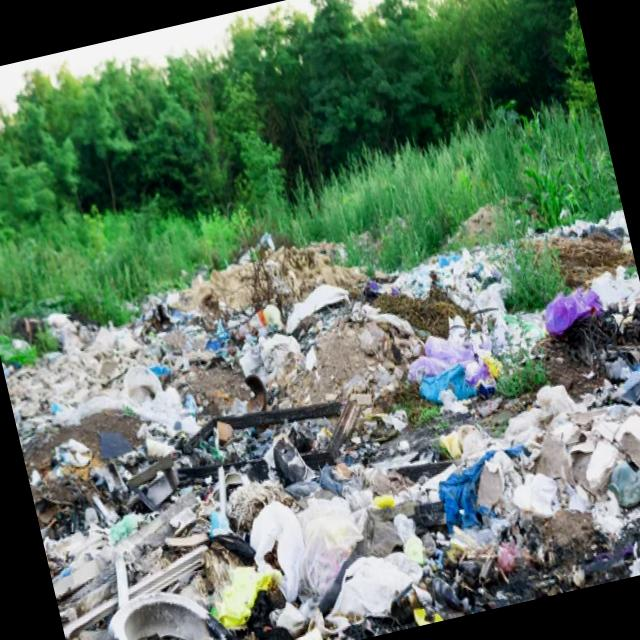garbage: (13, 172, 547, 640)
